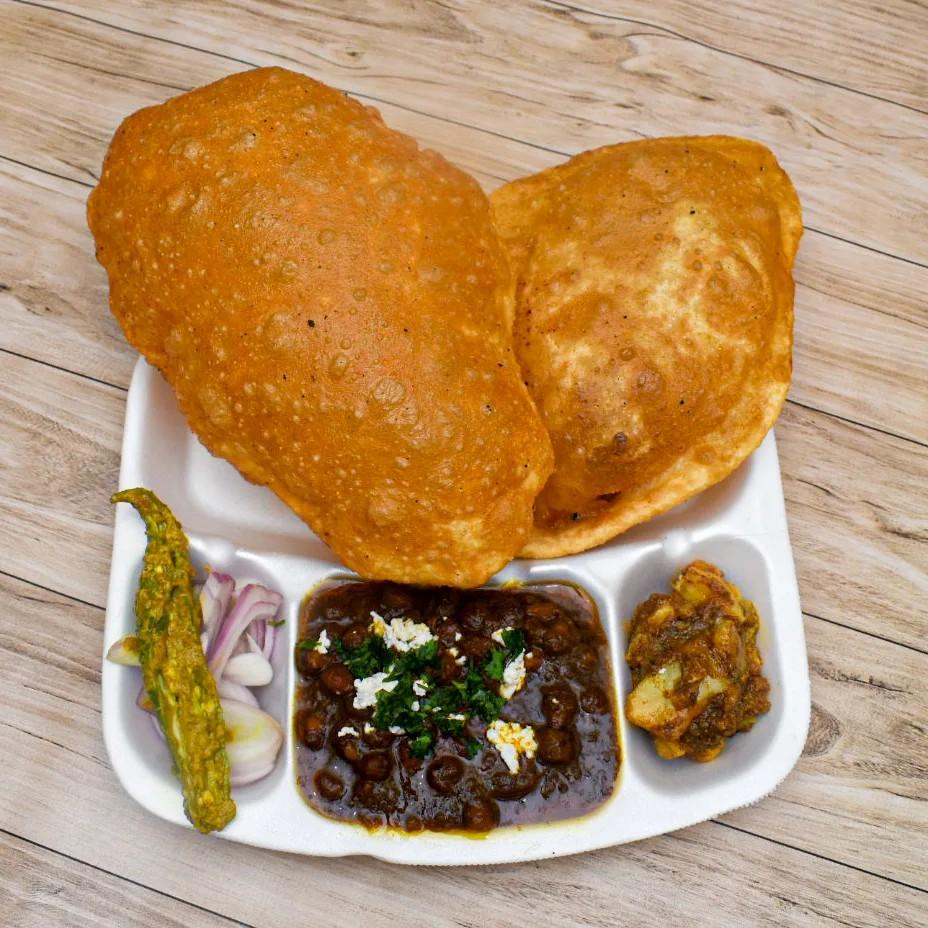Bhatura: (85, 66, 556, 586), (452, 132, 801, 556)
